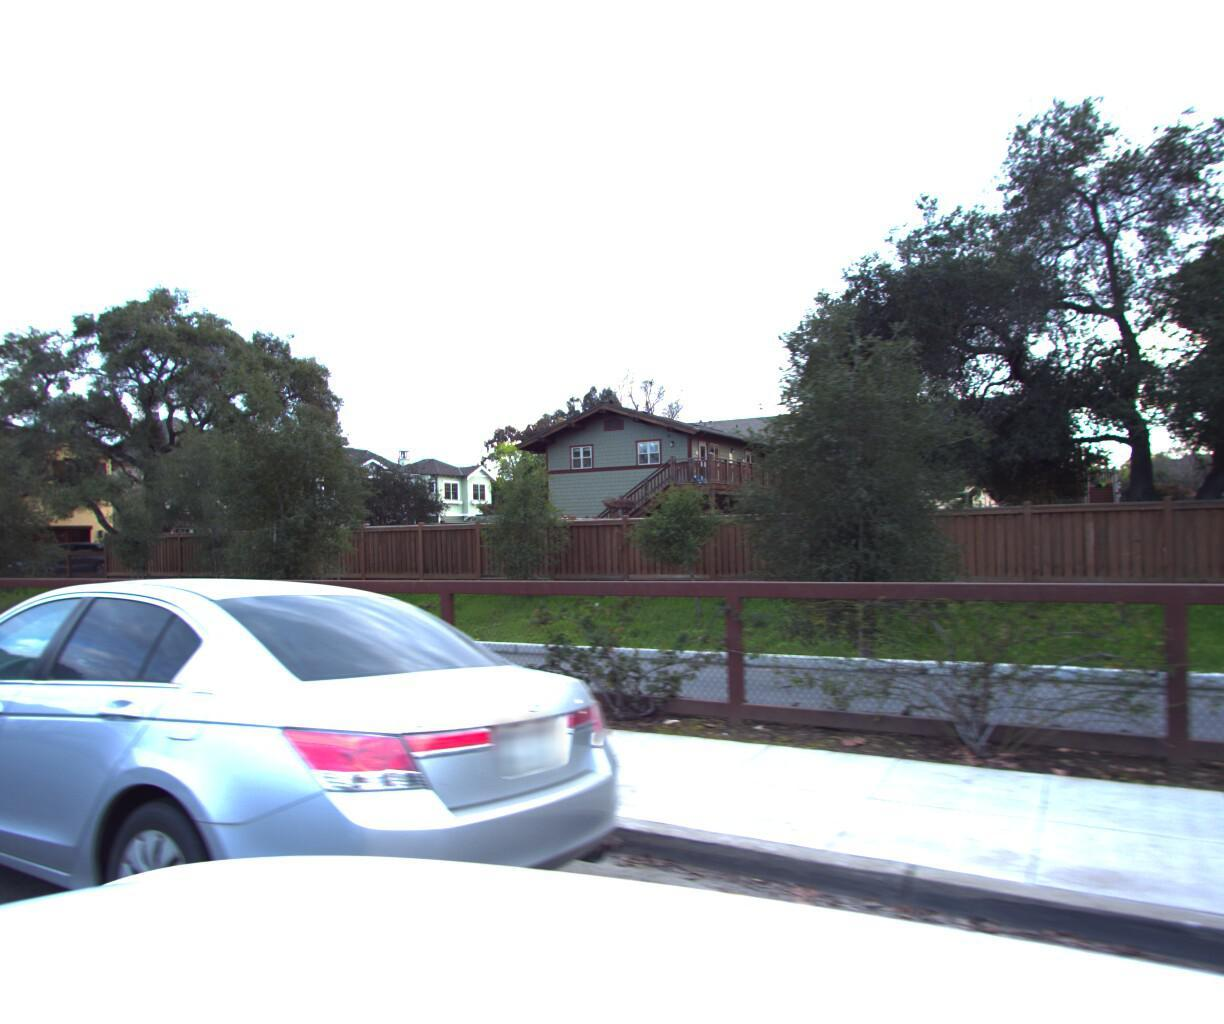car: (0, 559, 664, 1024), (0, 564, 9, 815)
